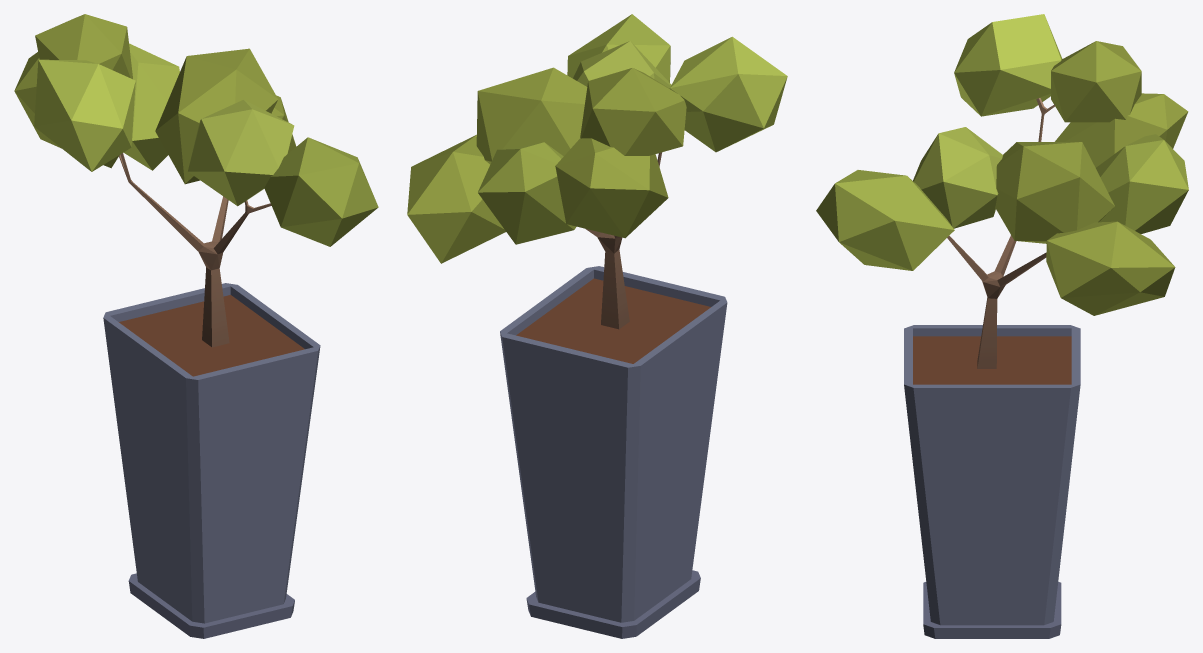
Rendered from SM_Nature_Flowerbed_01.fbx.
3 views of the same model, side by side, from view 1: azimuth 30°, elevation 25°; view 2: azimuth 150°, elevation 25°; view 3: azimuth 270°, elevation 25° (orthographic). The views are drawn at different scales.
Parts seen in each view (by area): view 1: SM_Nature_Flowerbed_01; view 2: SM_Nature_Flowerbed_01; view 3: SM_Nature_Flowerbed_01.
Part boxes in pixels (<box>): SM_Nature_Flowerbed_01: <box>14,14,378,638</box>; SM_Nature_Flowerbed_01: <box>407,14,787,638</box>; SM_Nature_Flowerbed_01: <box>816,14,1188,638</box>.
Size of the model in its own units: 57.31 by 106 by 66.5.
